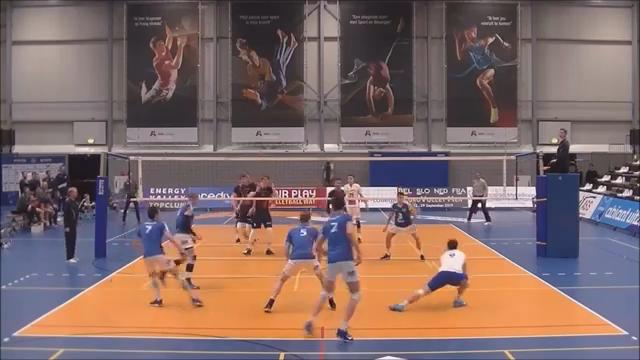Player: (304, 197, 361, 341), (134, 207, 202, 306), (264, 212, 324, 312), (380, 192, 424, 260), (174, 194, 200, 288), (232, 174, 256, 243), (243, 200, 273, 255), (343, 175, 367, 242), (325, 178, 344, 214)
Receive: (386, 236, 471, 312)
